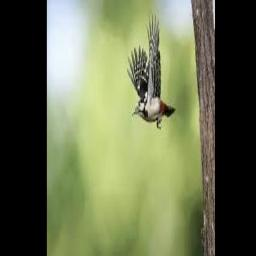Woodpecker: (126, 10, 175, 129)
